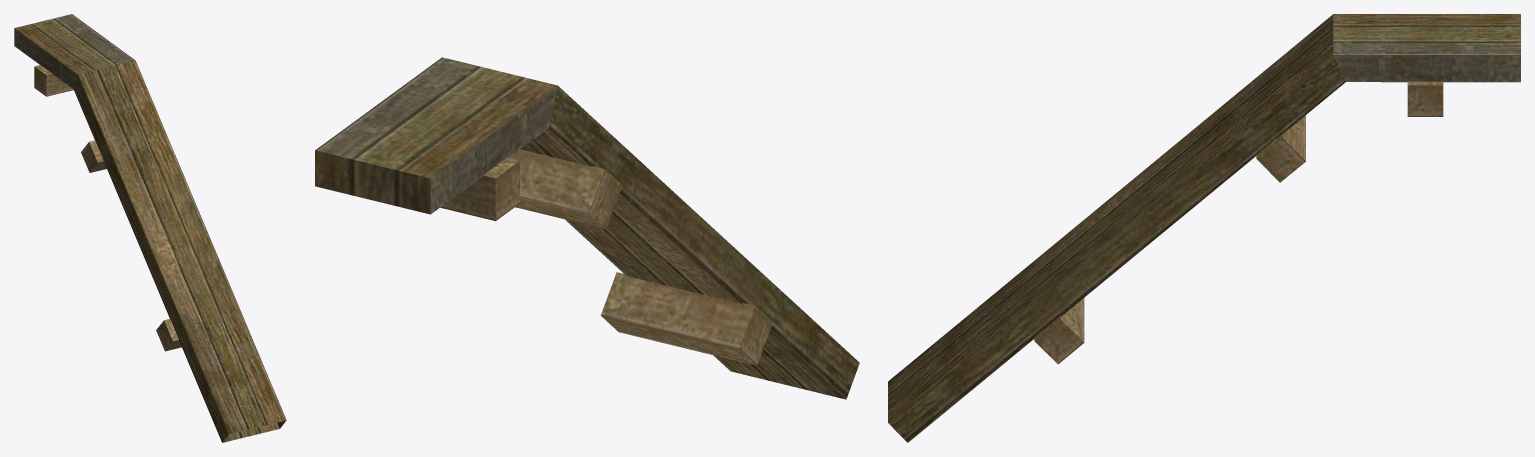
Rendered from Tnwall4.glb.
3 renders of one model, left to right at view 1: azimuth 30°, elevation 25°; view 2: azimuth 150°, elevation 25°; view 3: azimuth 270°, elevation 25°, orthographic. The views are drawn at different scales.
Visible parts, largest first — view 1: Tnwall4; view 2: Tnwall4; view 3: Tnwall4.
Part boxes in pixels (<box>): Tnwall4: <box>14,14,286,442</box>; Tnwall4: <box>315,57,859,399</box>; Tnwall4: <box>888,14,1520,442</box>.
Size of the model in its own units: 1.13 by 4.11 by 6.09.
1 material, 1 textured.
